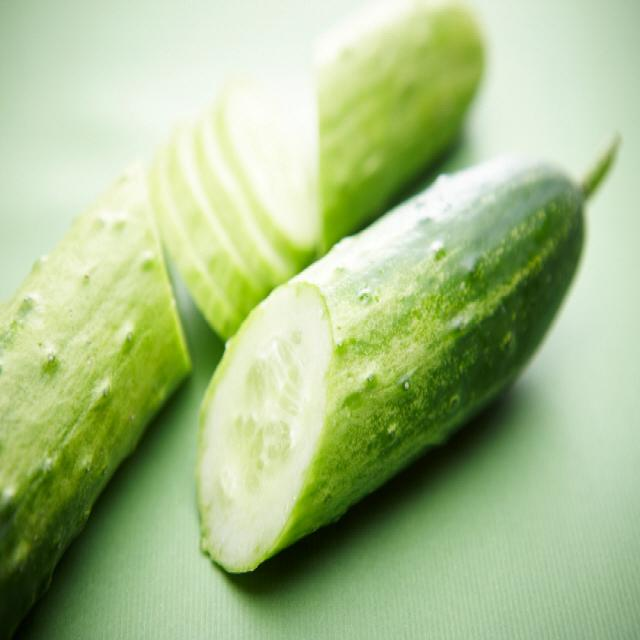cucumber: (190, 144, 594, 594)
